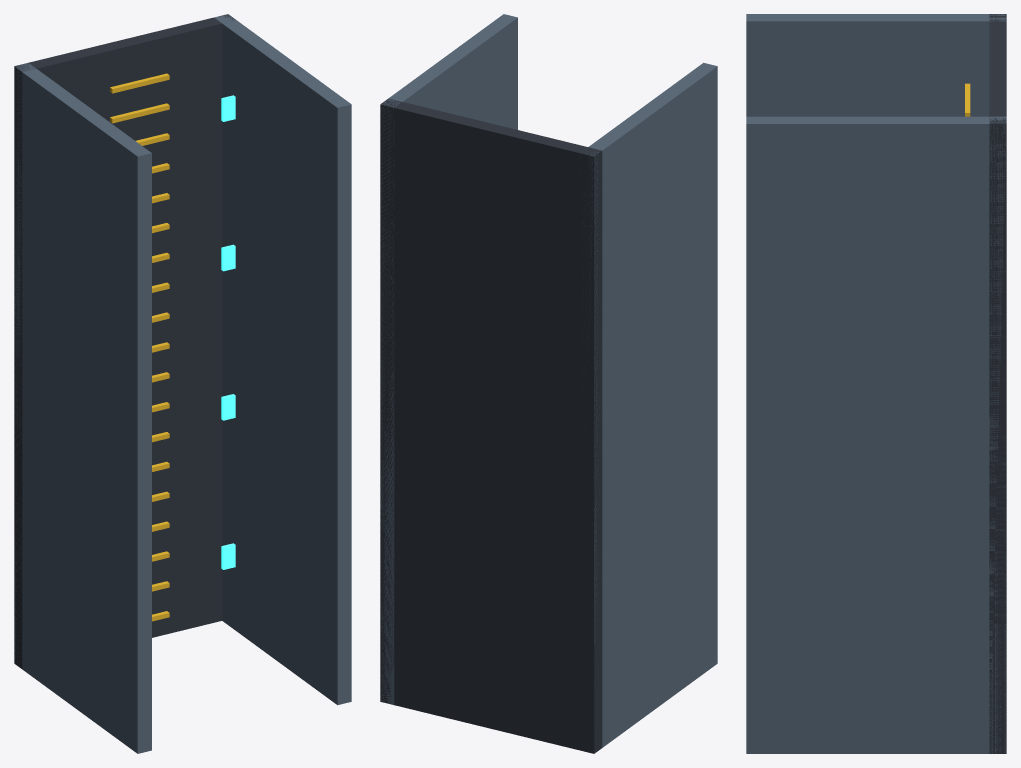
File: interior_shaft_ladder.glb
The picture shows the model from 3 angles, left to right: view 1: azimuth 30°, elevation 25°; view 2: azimuth 150°, elevation 25°; view 3: azimuth 270°, elevation 25°; orthographic projection. The views are drawn at different scales.
Parts seen in each view (by area): view 1: interior_shaft_ladder_steel, interior_shaft_ladder_steelDark, interior_shaft_ladder_yellow, interior_shaft_ladder_glow; view 2: interior_shaft_ladder_steelDark, interior_shaft_ladder_steel; view 3: interior_shaft_ladder_steel, interior_shaft_ladder_steelDark.
Boxes of the visible parts, left/top/right/bottom form: interior_shaft_ladder_steel: left=14, top=14, right=351, bottom=753; interior_shaft_ladder_steelDark: left=14, top=14, right=235, bottom=668; interior_shaft_ladder_yellow: left=110, top=73, right=169, bottom=621; interior_shaft_ladder_glow: left=221, top=95, right=235, bottom=569; interior_shaft_ladder_steelDark: left=380, top=98, right=602, bottom=753; interior_shaft_ladder_steel: left=380, top=14, right=717, bottom=747; interior_shaft_ladder_steel: left=746, top=14, right=1006, bottom=753; interior_shaft_ladder_steelDark: left=989, top=14, right=1006, bottom=753.
Bounding box in the file's own units: 3 × 8 × 3.
